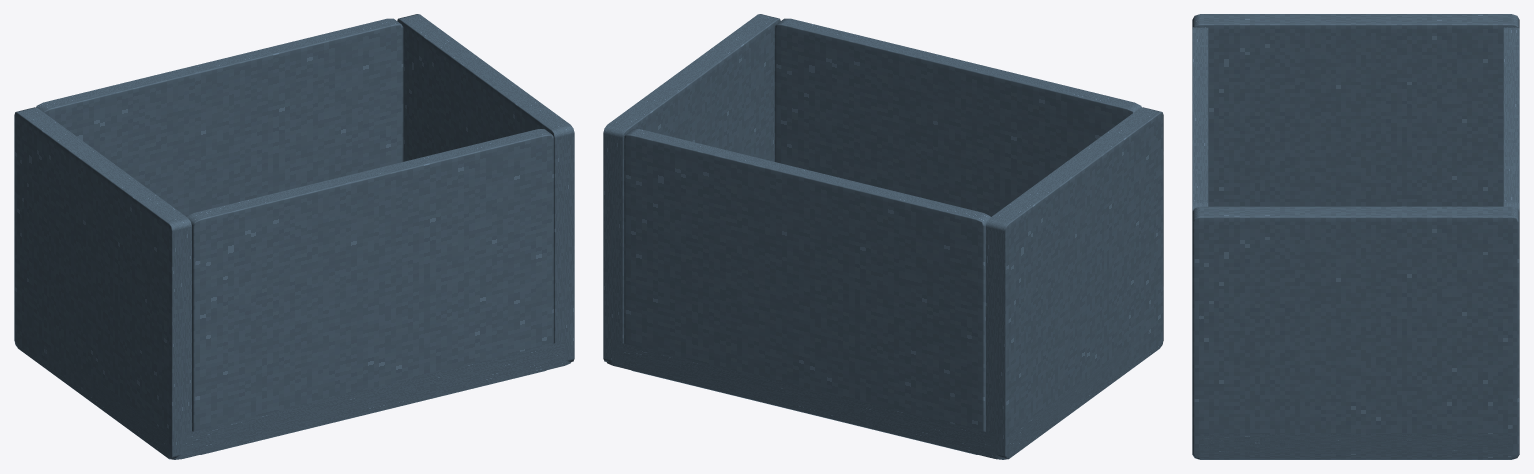
File: drinks.glb
The picture shows the model from 3 angles, left to right: view 1: azimuth 30°, elevation 25°; view 2: azimuth 150°, elevation 25°; view 3: azimuth 270°, elevation 25°; orthographic projection. The views are drawn at different scales.
Visible parts, largest first — view 1: edge (×2), side (×2), bottom; view 2: edge (×2), side (×2), bottom; view 3: side (×2), bottom, edge (×2).
Boxes of the visible parts, x1,y1,x2,y2 form: edge (×2): (36, 18, 554, 454); side (×2): (14, 14, 574, 459); bottom: (17, 325, 571, 459); edge (×2): (623, 18, 1141, 454); side (×2): (603, 14, 1163, 459); bottom: (606, 325, 1160, 459); side (×2): (1192, 14, 1519, 459); bottom: (1192, 434, 1519, 459); edge (×2): (1192, 27, 1519, 211).
Bounding box in the file's own units: 0.41 × 0.23 × 0.28.
Materials: 1 (1 with a texture image).
